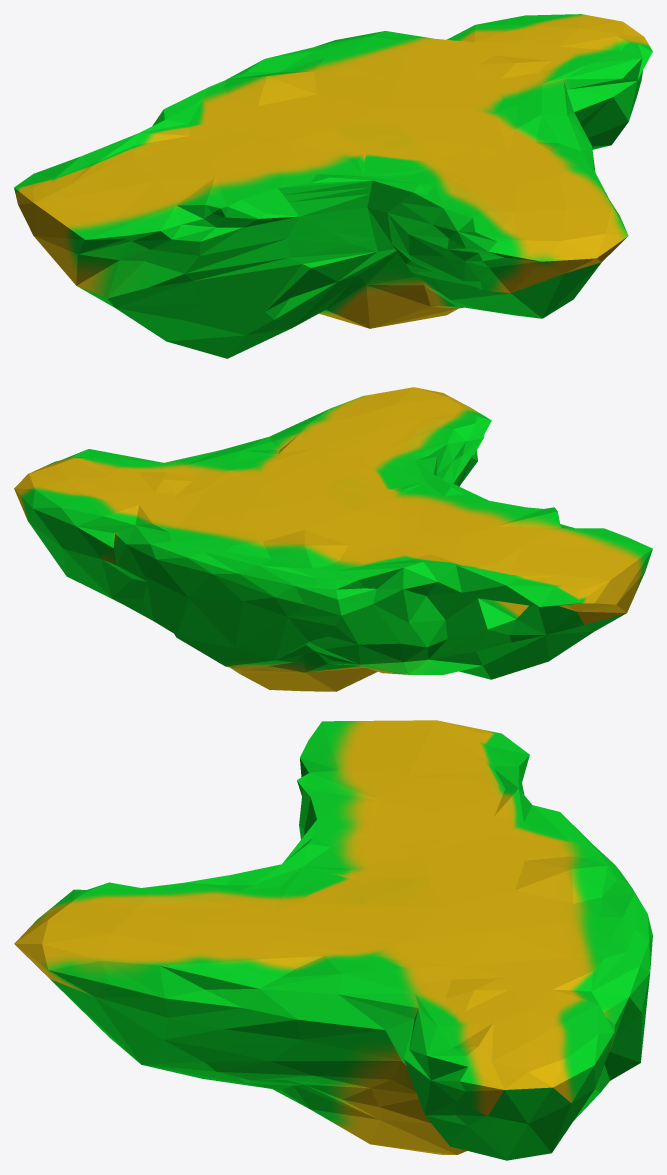
Rendered from roadT.obj.
3 views of the same model, one above another, from view 1: azimuth 30°, elevation 25°; view 2: azimuth 150°, elevation 25°; view 3: azimuth 270°, elevation 25° (orthographic). The views are drawn at different scales.
Visible parts, largest first — view 1: Ico_球體.010; view 2: Ico_球體.010; view 3: Ico_球體.010.
Boxes of the visible parts, bbox=[...] form: Ico_球體.010: bbox=[14, 14, 652, 358]; Ico_球體.010: bbox=[14, 387, 652, 691]; Ico_球體.010: bbox=[14, 720, 652, 1160].
Size of the model in its own units: 306 by 101 by 230.
1 material, 1 textured.
